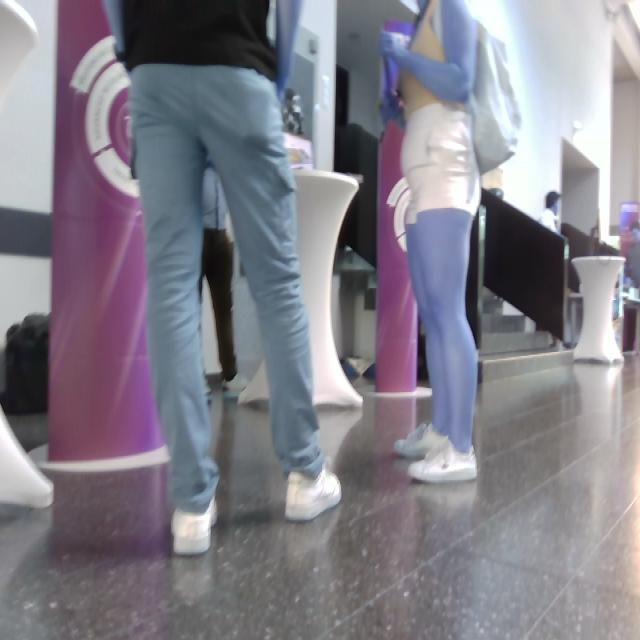backpack: (468, 22, 521, 176)
banner: (50, 1, 168, 470), (375, 22, 418, 393)
light bulb: (1, 406, 53, 509), (1, 408, 53, 506), (1, 1, 38, 109), (1, 1, 38, 106)
person: (104, 1, 341, 554), (381, 1, 521, 482), (200, 168, 245, 400), (541, 192, 561, 234)
step: (483, 289, 552, 353)
table: (296, 170, 362, 406), (572, 257, 624, 365)
tiled floor: (1, 353, 640, 640)
